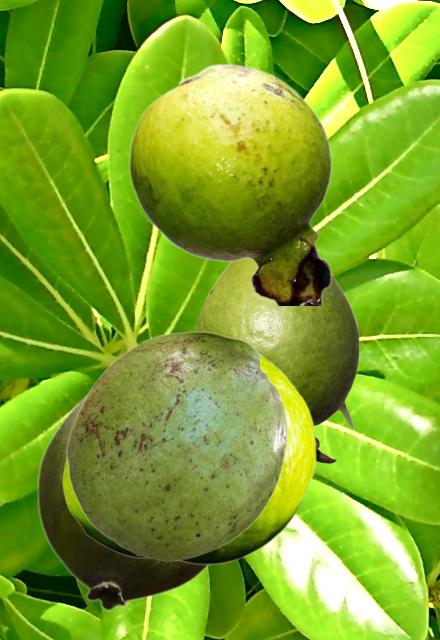guava: (65, 331, 287, 560), (128, 63, 332, 304), (36, 392, 212, 610), (195, 249, 358, 464), (177, 353, 315, 564), (62, 458, 142, 557)
